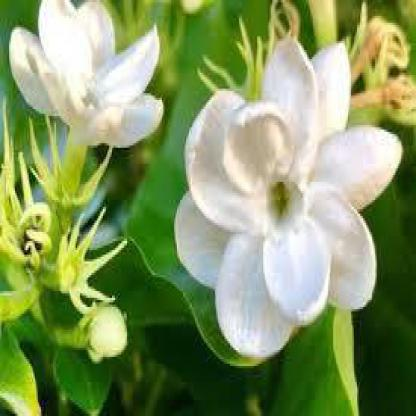Melati: (177, 35, 410, 367)
